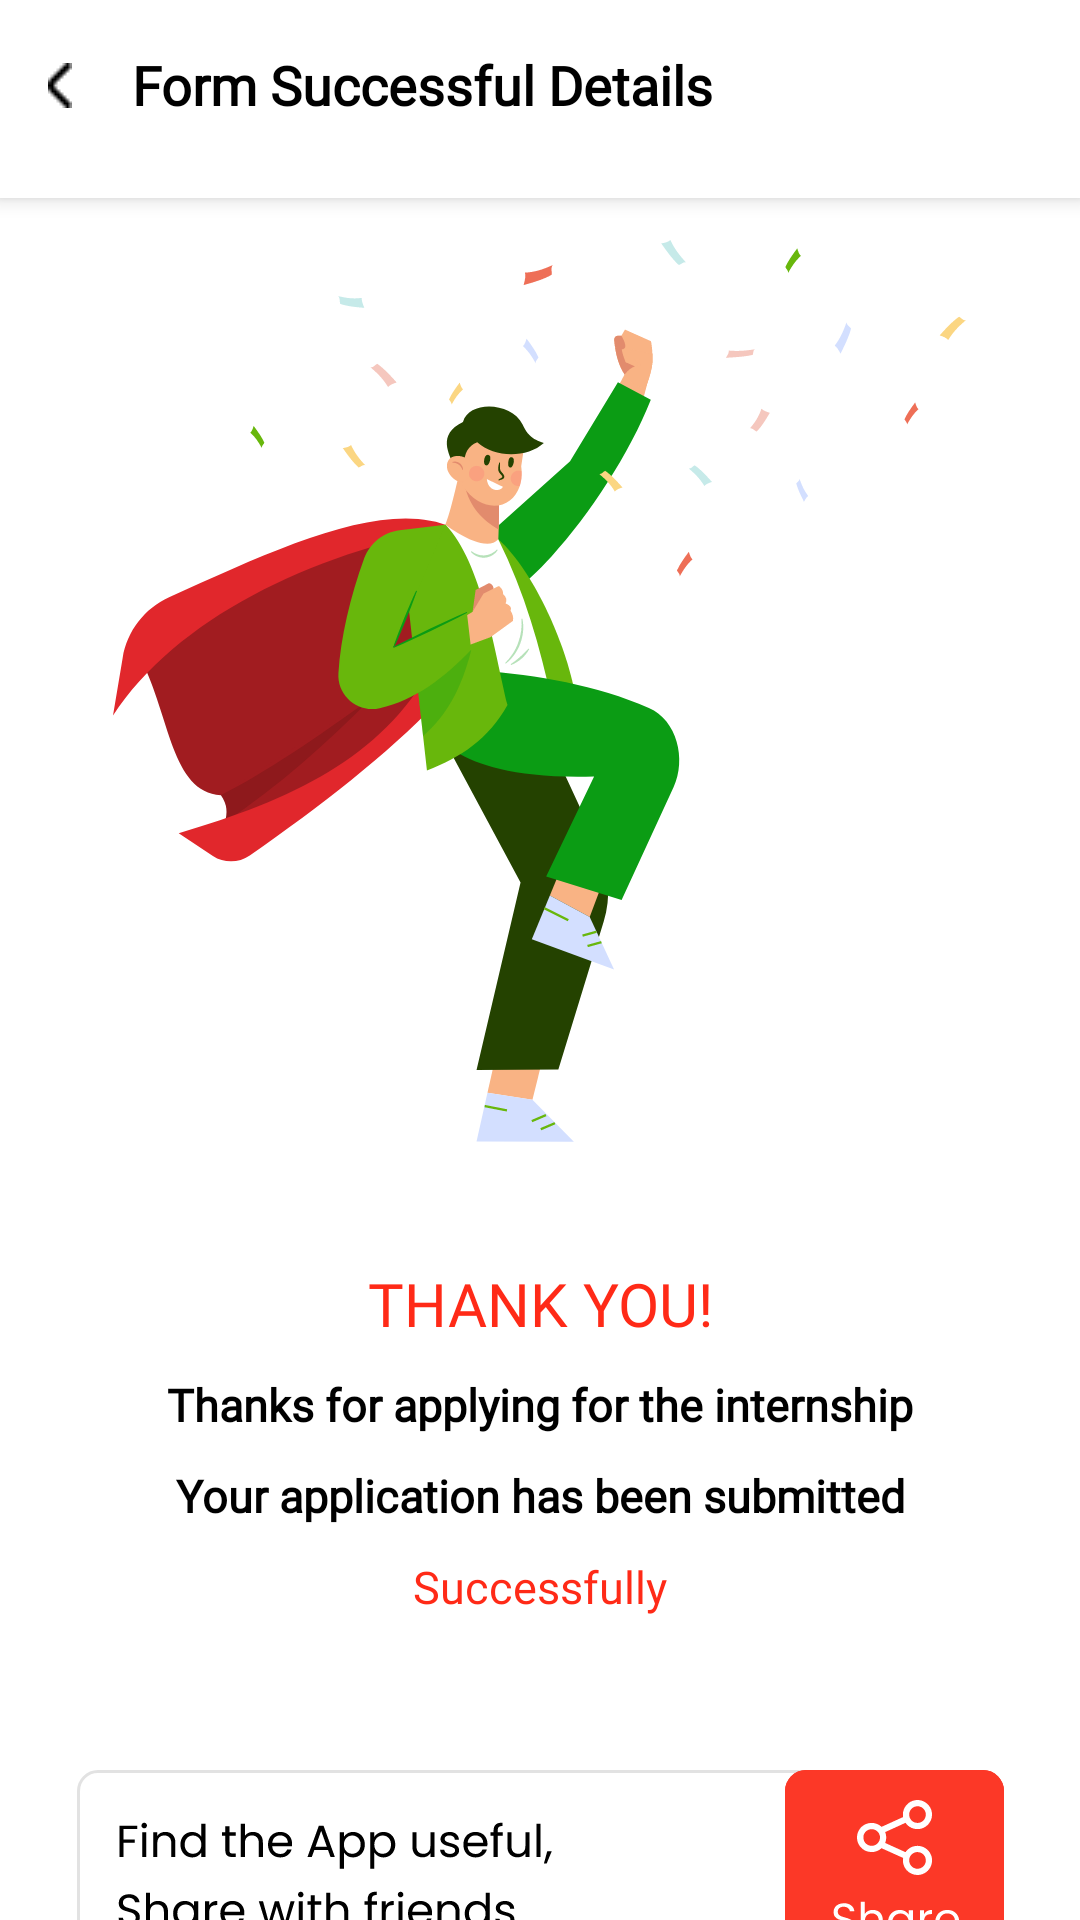

Icons on this 1080px×1920px Android screen, each with the point to tap as point (x, y):
back: point (60, 85)
